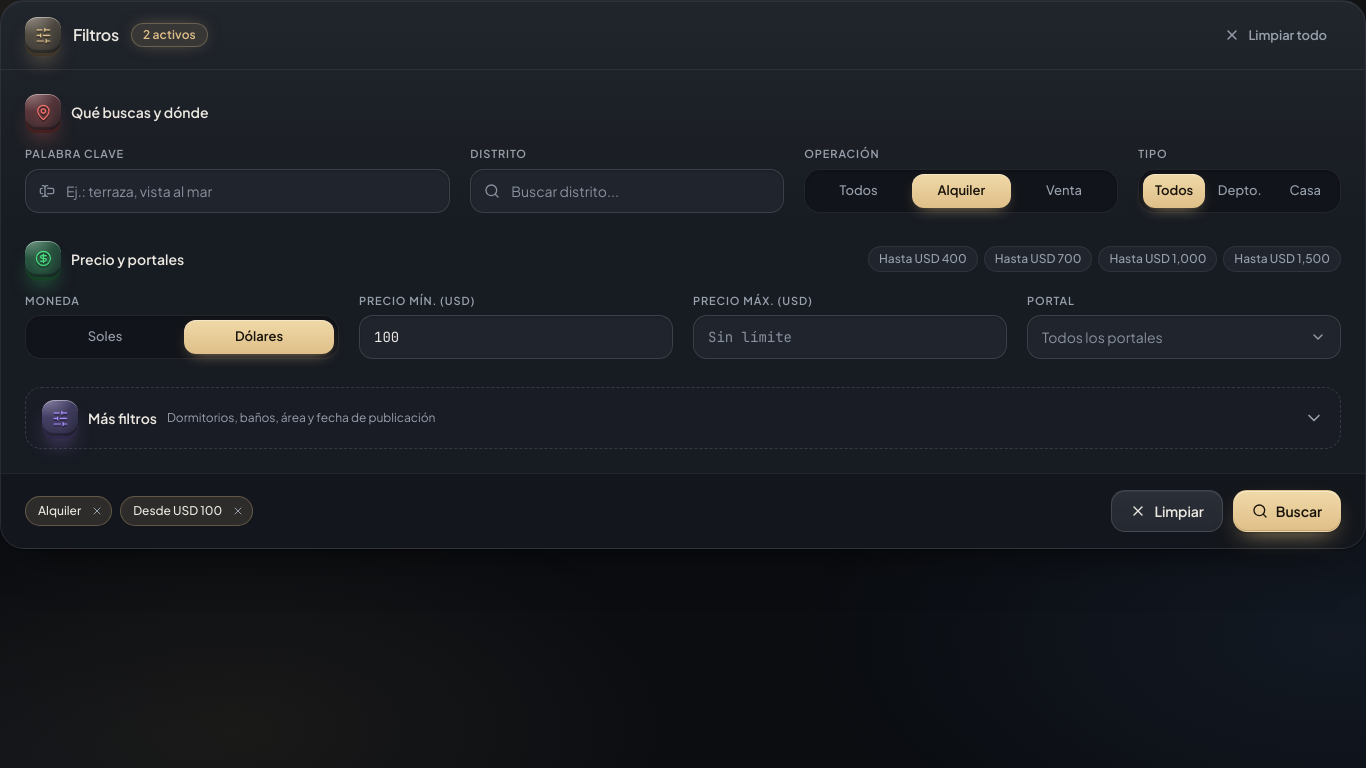
it: PortalFilters › los atajos de precio fijan el tope máximo y buscan
The width and height of the screenshot is (1366, 768).
Click the button "Hasta USD 700" at (1038,258), box [984,246,1092,272]
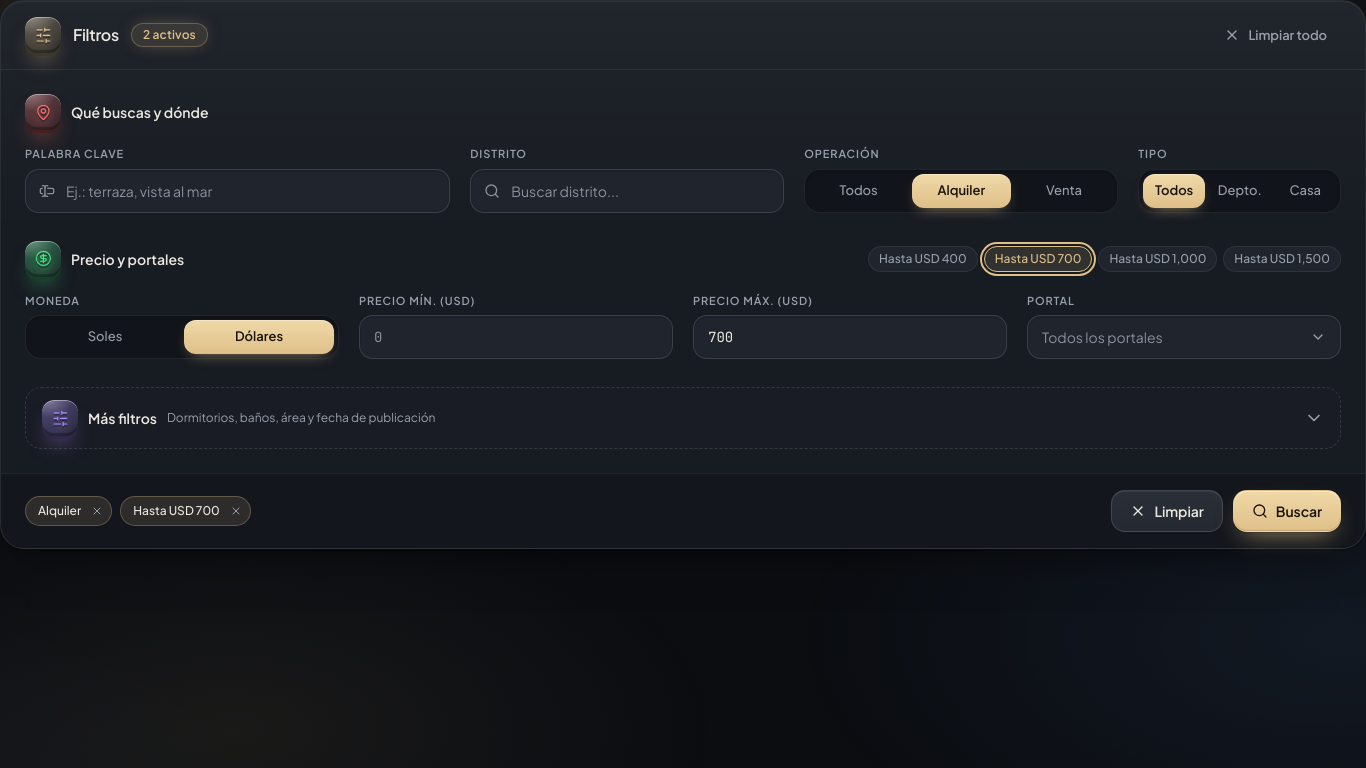
Expected: the number field labelled "Precio máx. (USD)" holds "700", [693,315,1007,359]
